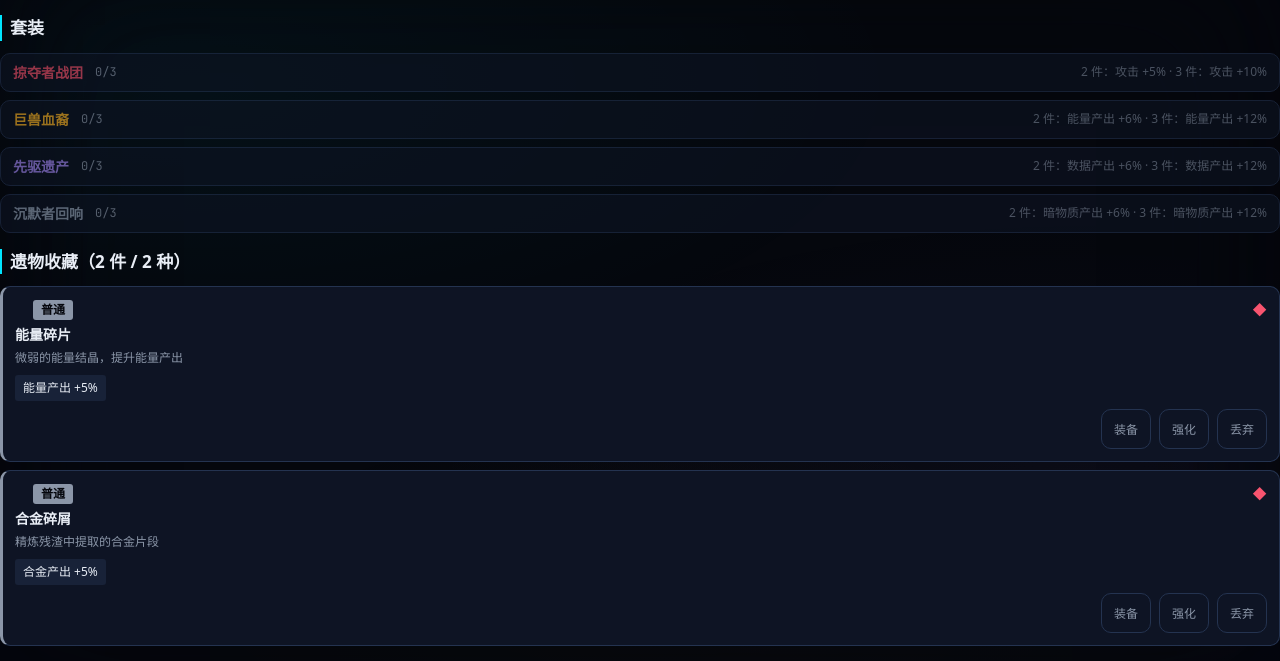
Test case: RelicView — 套装 › 装备 2 件同系遗物激活 partial 套装
The image size is (1280, 661).
(page scrolled)
Click the 1st button with test id "equip-button" at (1126, 429), box 1101,409 -> 1151,449
(page scrolled)
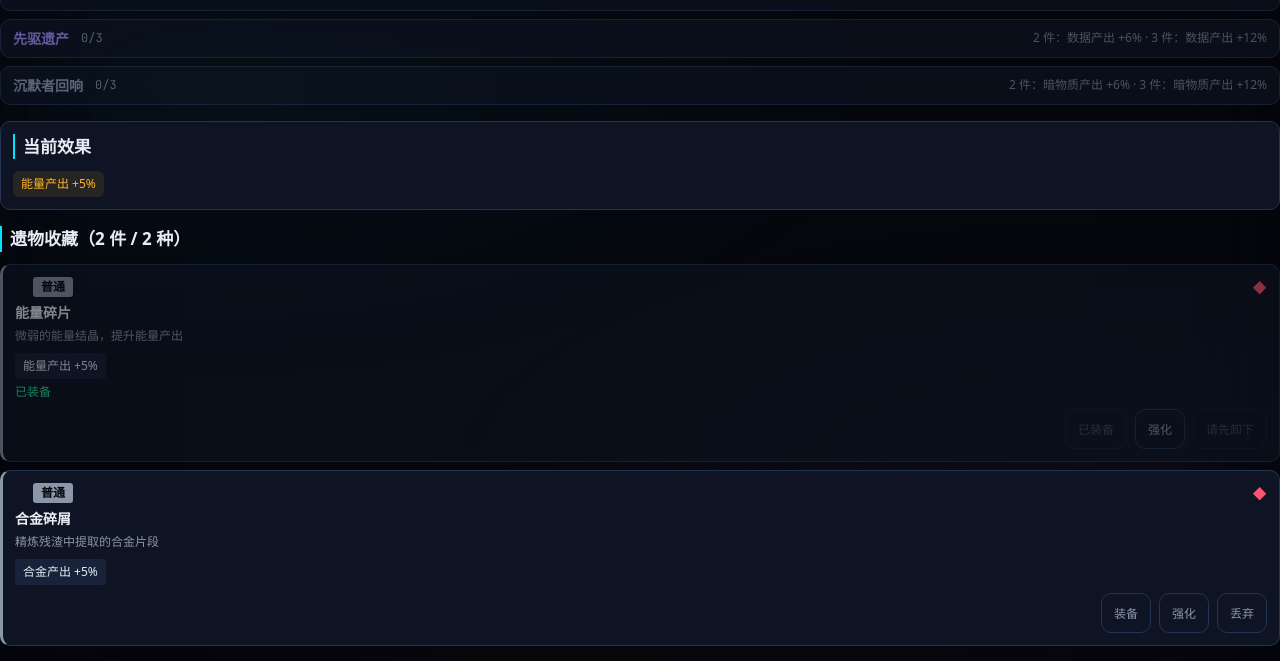
Click the button with test id "equip-button" showing "装备" at (1126, 613), box 1101,593 -> 1151,633
(page scrolled)
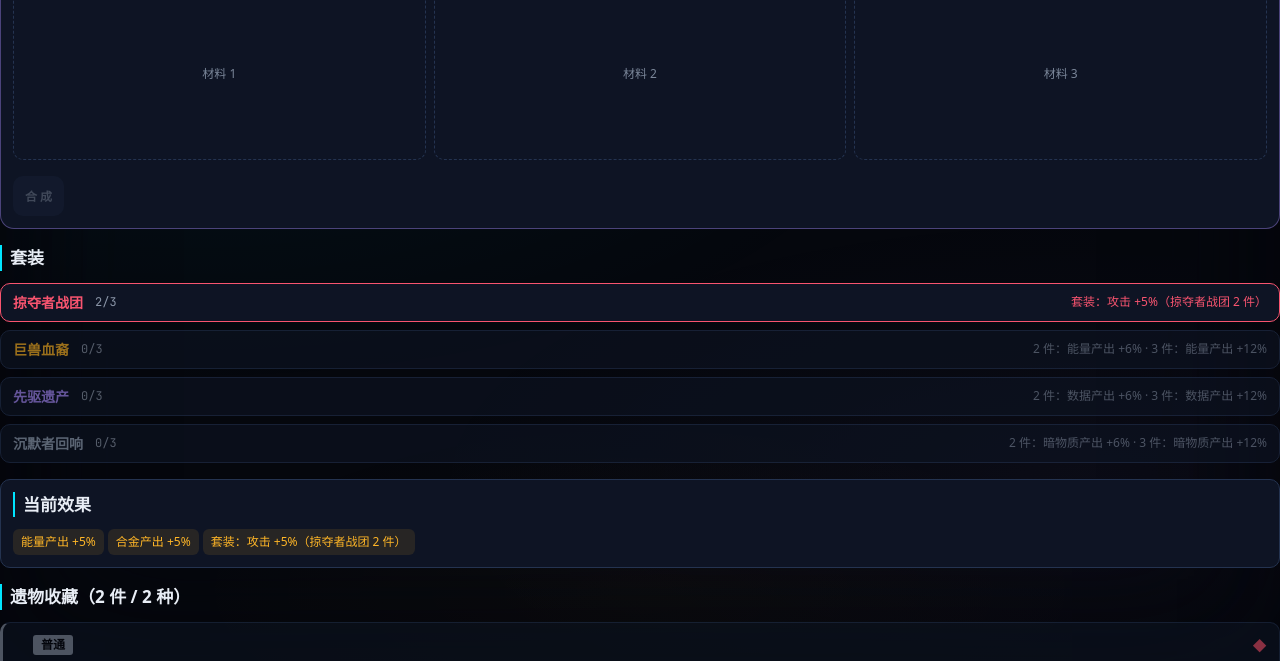
Check: the element with test id "set-row-raiders" shows "2/3", box 95,294 -> 117,310
